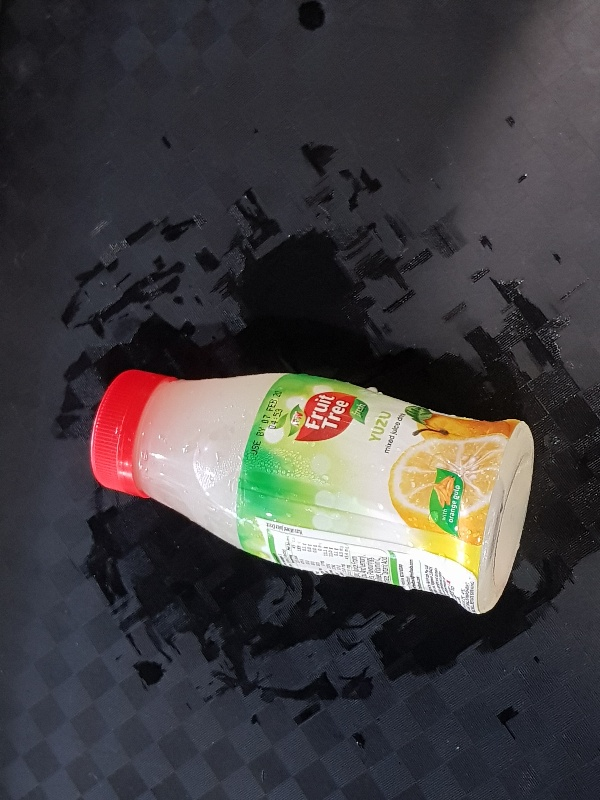Fruit Tree Yuzu Mixed Juice Drink: (89, 367, 535, 614)
